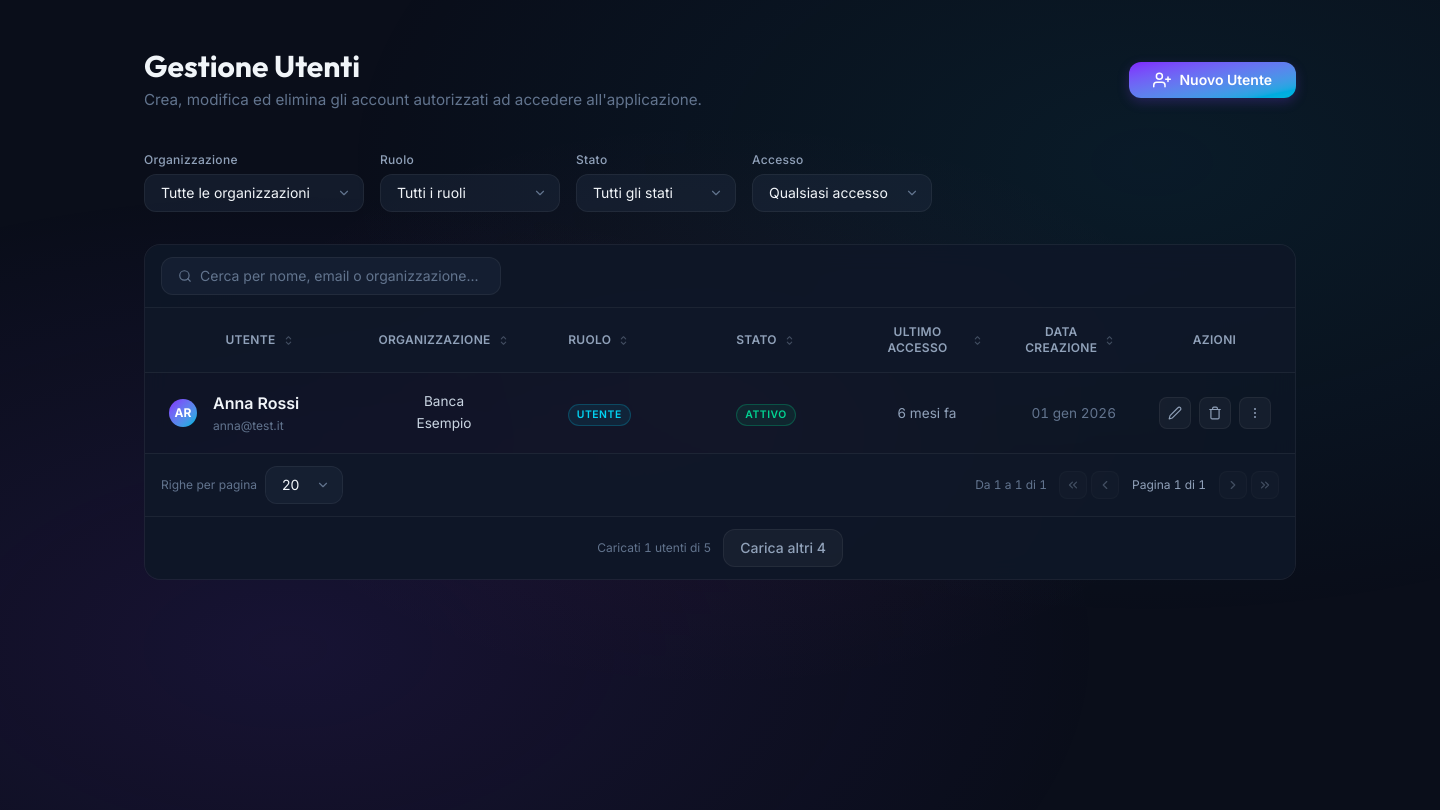
Scenario: elenco › dice che il totale è quello dei filtri
Click the dropdown named "Ruolo" at (470, 193), box left=380, top=174, right=560, bottom=212
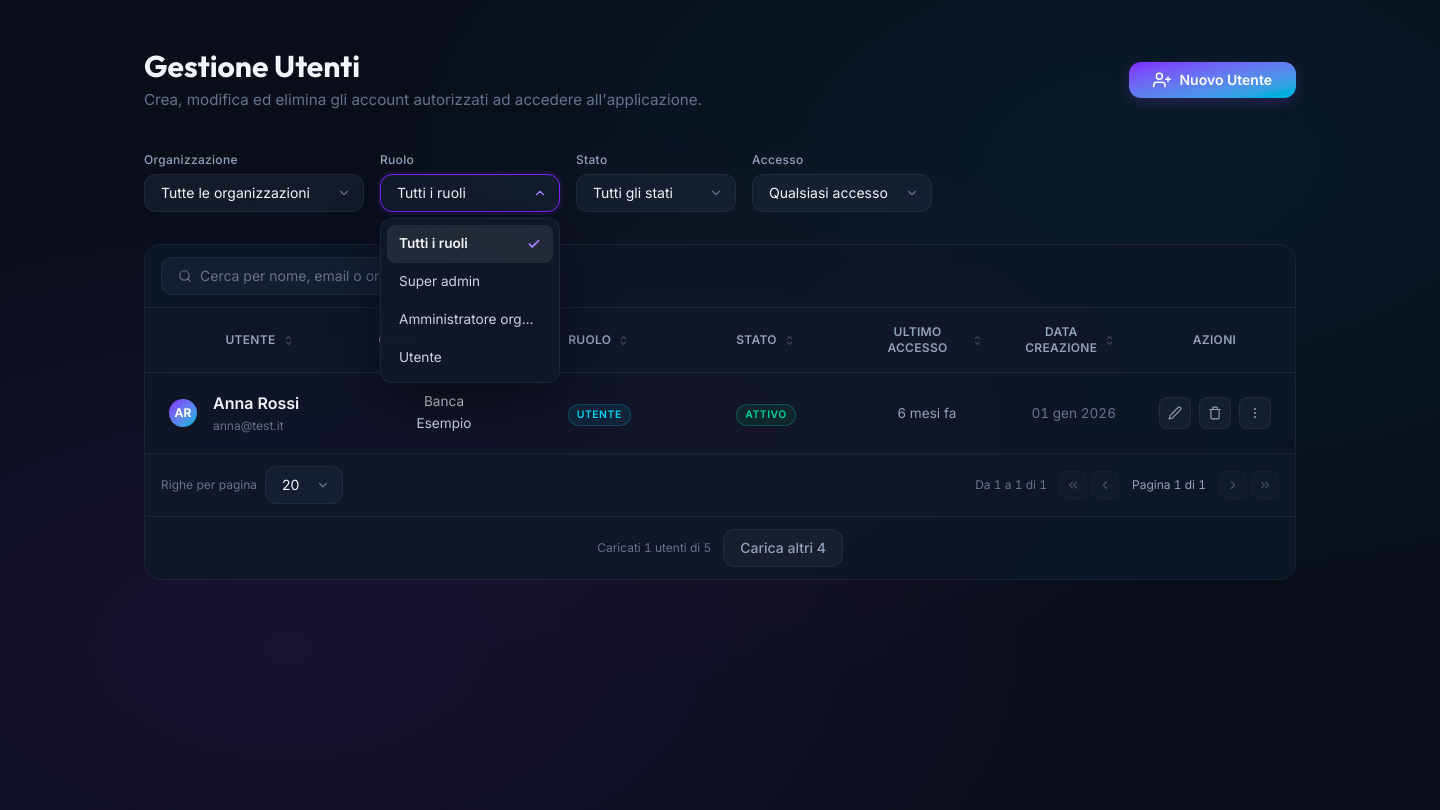
Click the option "Utente" at (420, 357), box left=399, top=349, right=442, bottom=365
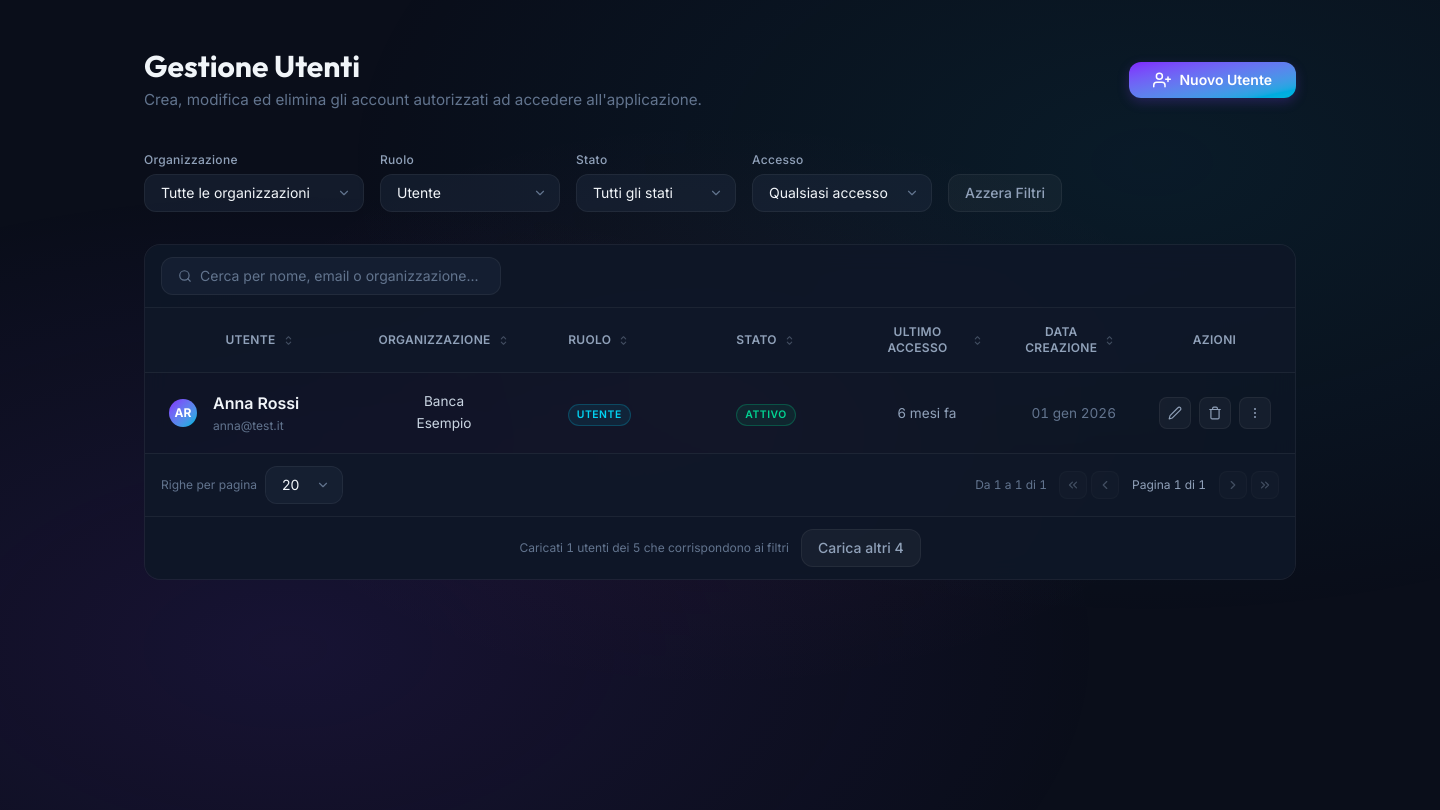
Expected: the text "Caricati 1 utenti dei 5 che corrispondono ai filtri" is shown, left=519, top=540, right=789, bottom=556
